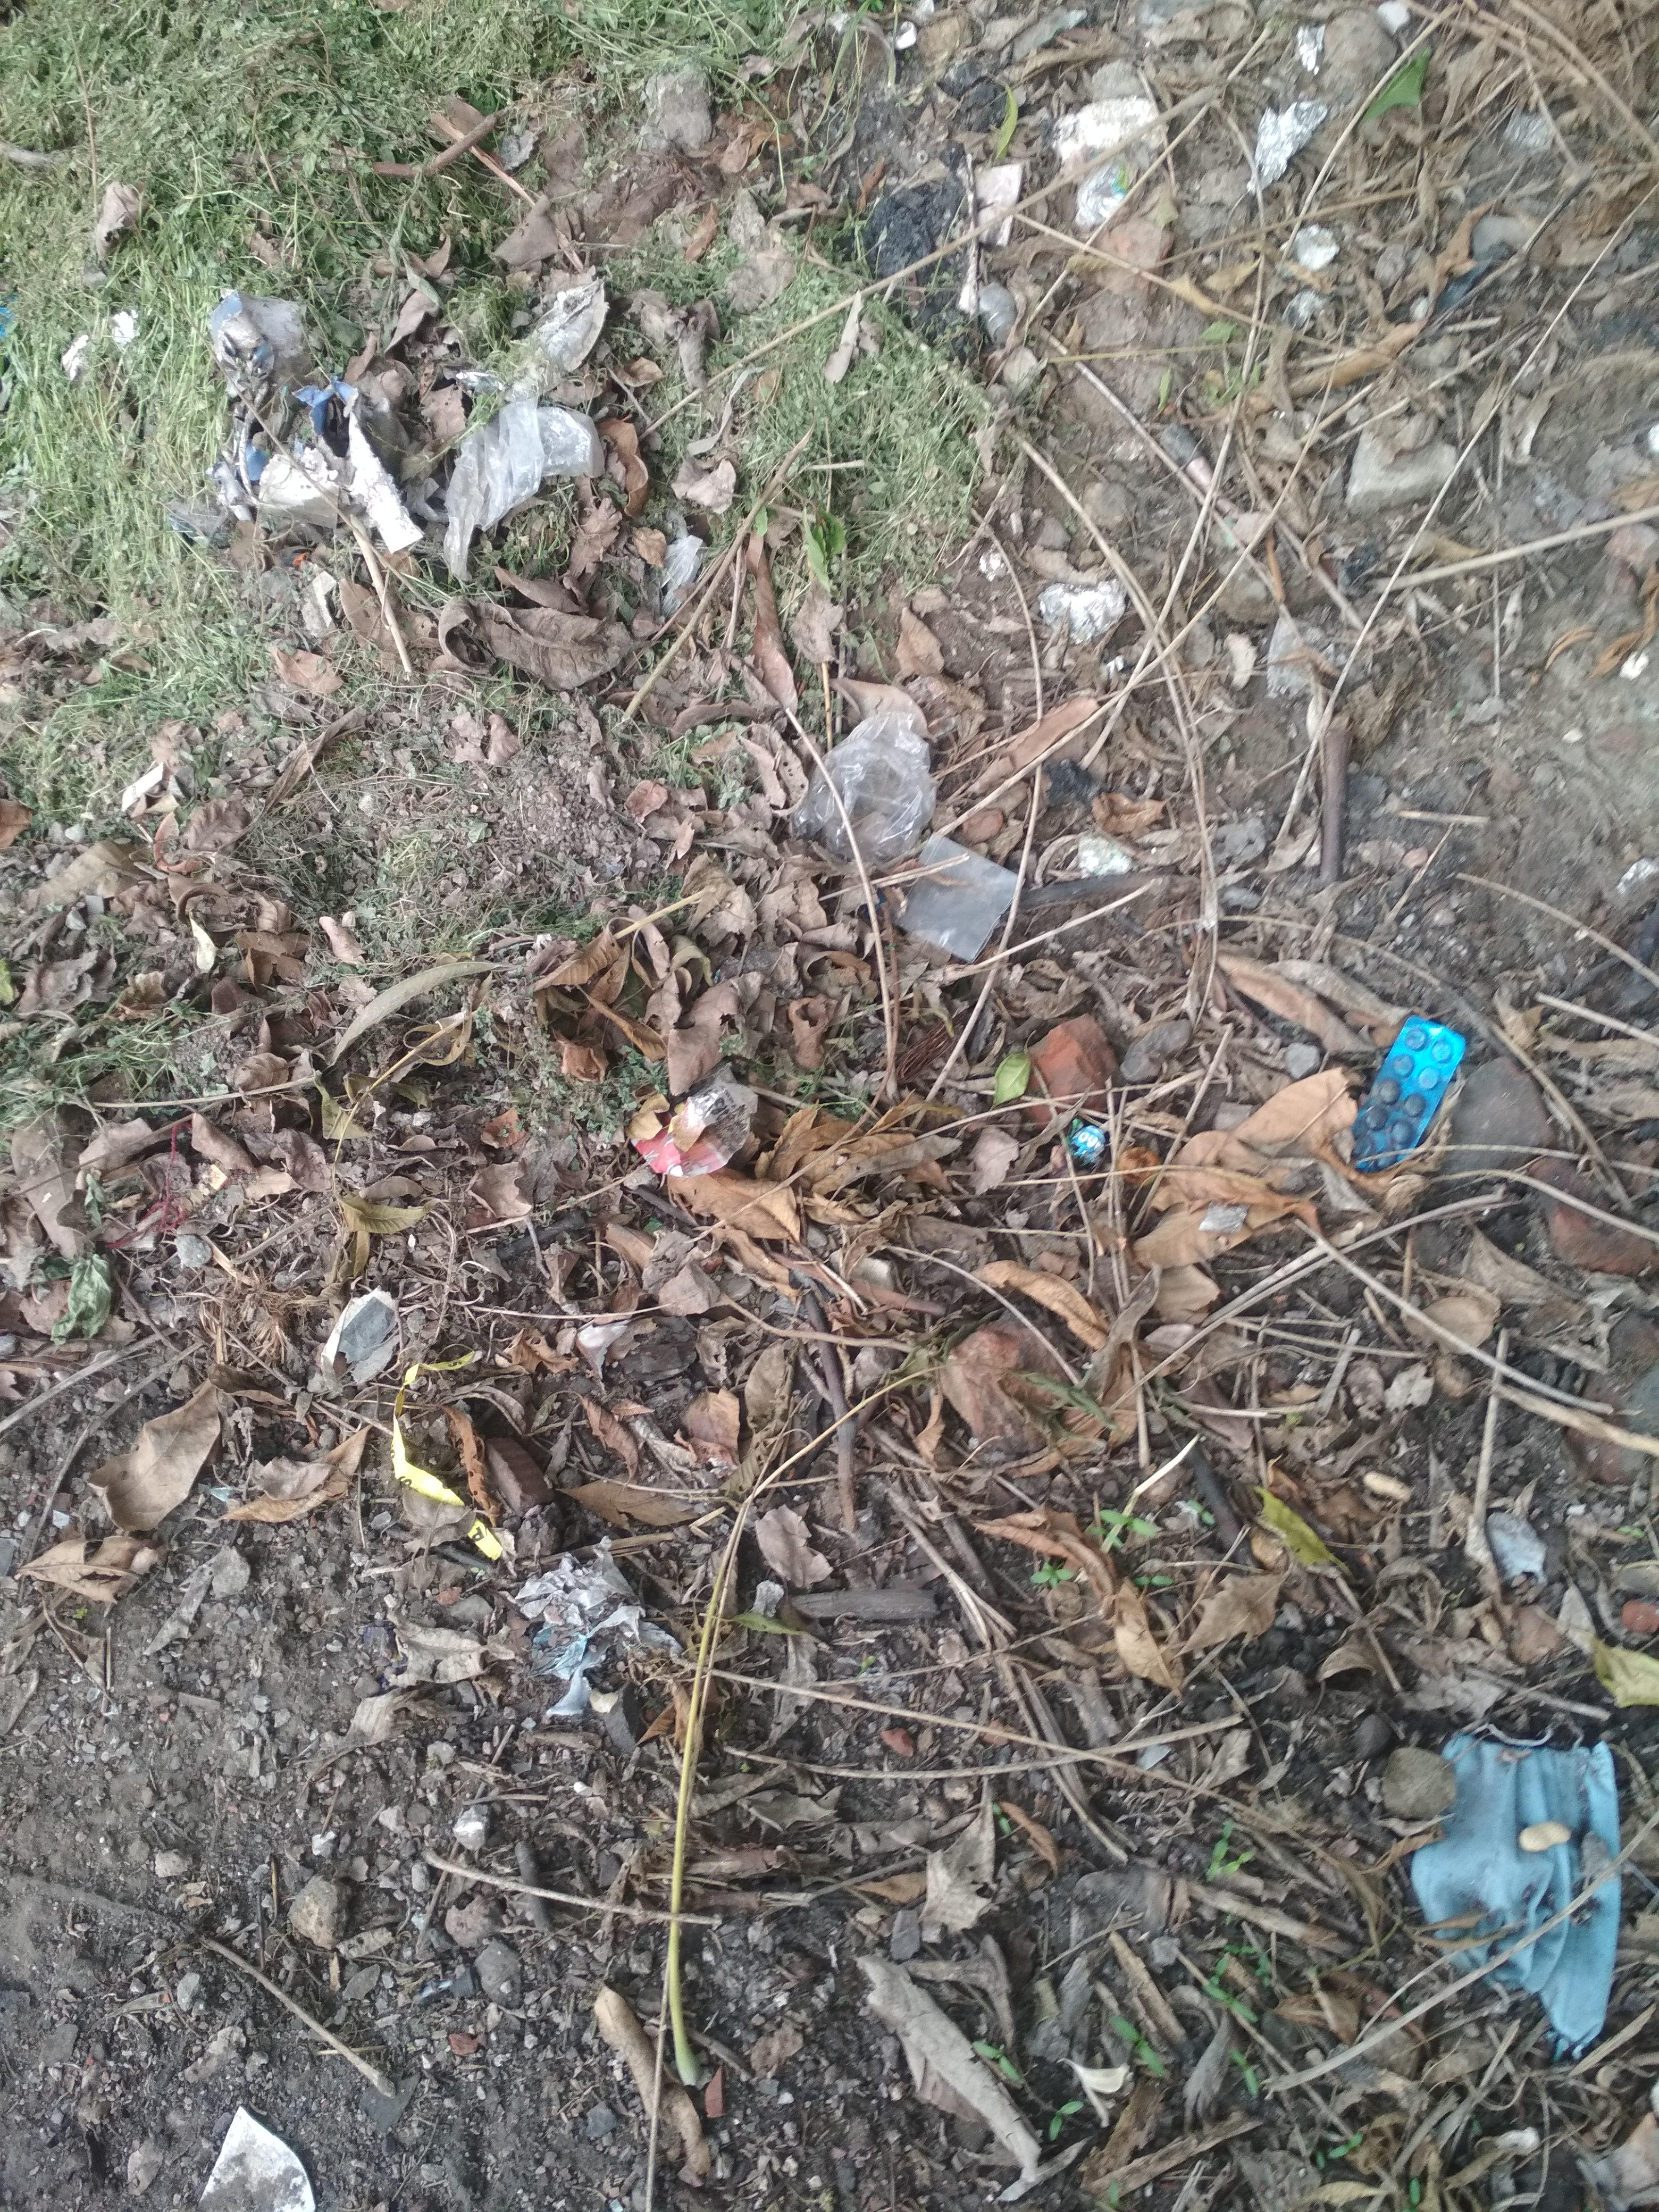trash: (1316, 989, 1659, 2083)
